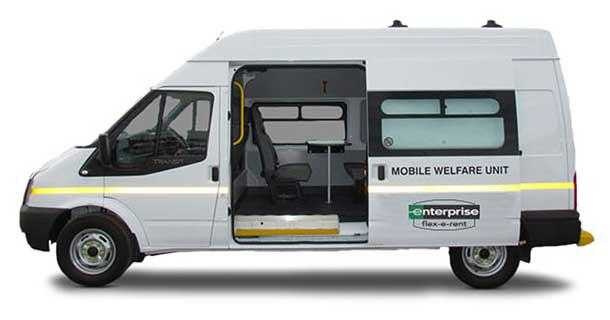van: (19, 26, 581, 288)
